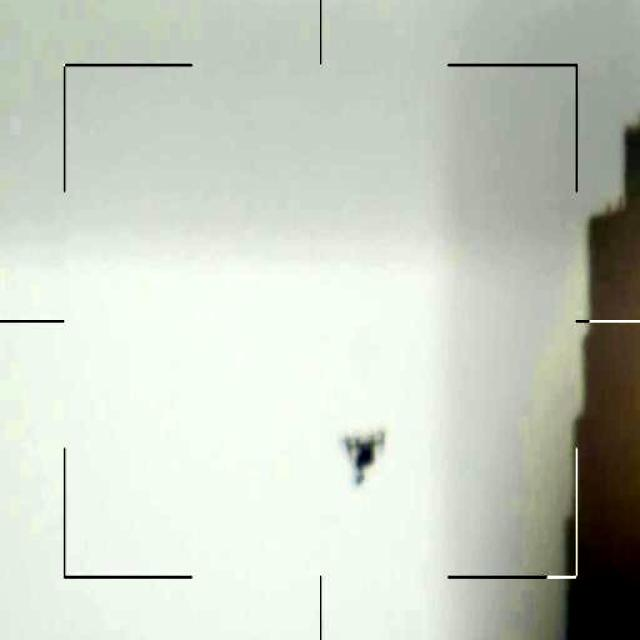bird: (336, 411, 390, 488)
